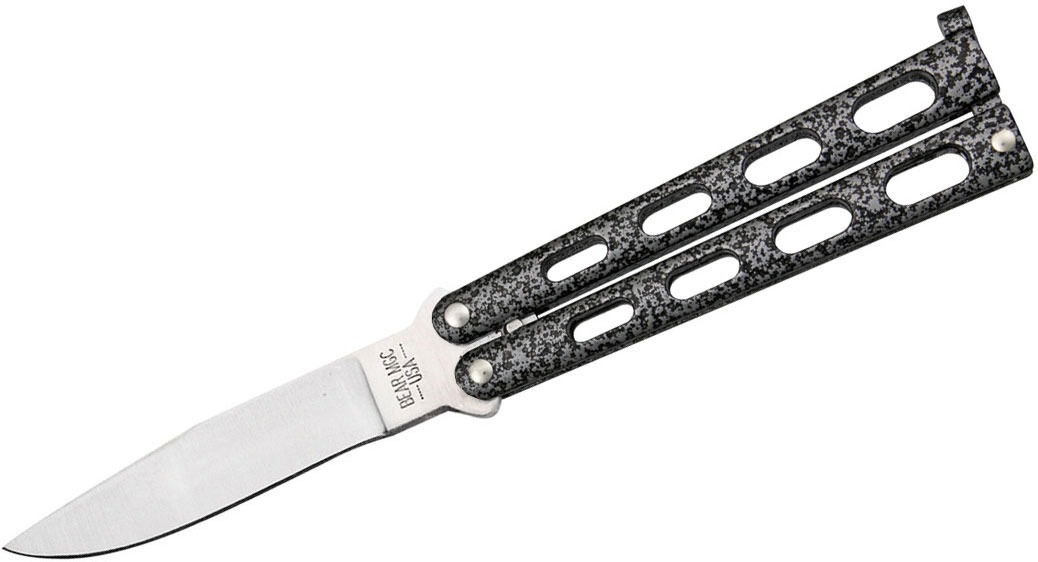knife: (4, 4, 1038, 561)
